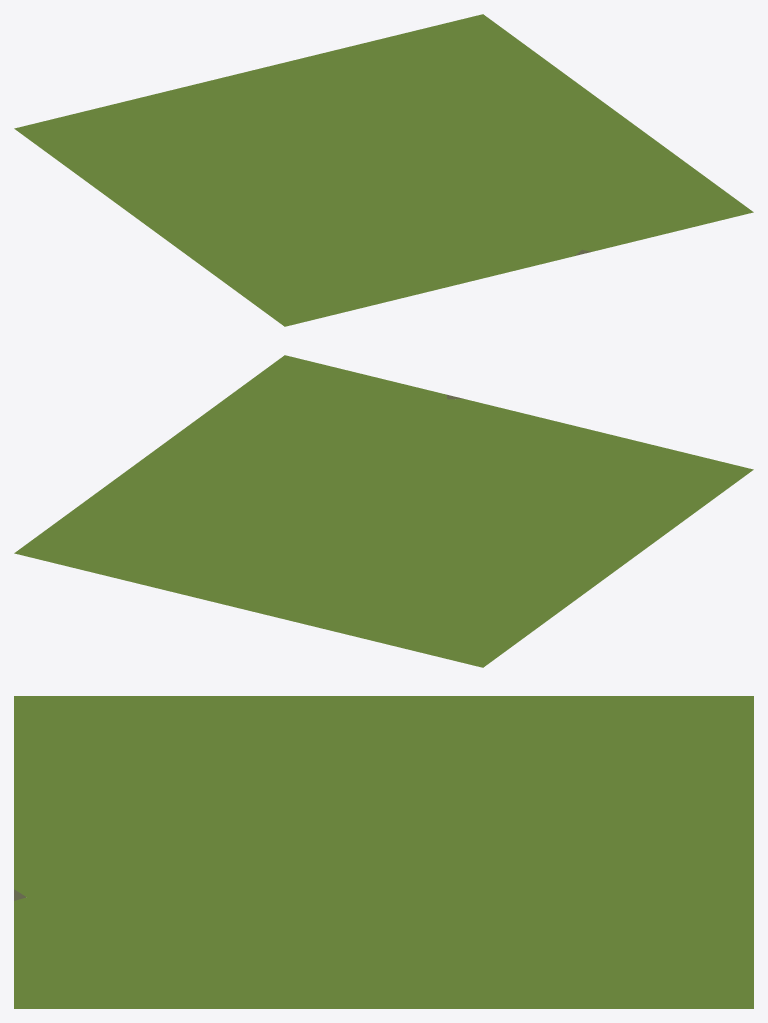
File: cure-15-0.glb
The picture shows the model from 3 angles, top to bottom: view 1: azimuth 30°, elevation 25°; view 2: azimuth 150°, elevation 25°; view 3: azimuth 270°, elevation 25°; orthographic projection. The views are drawn at different scales.
Parts seen in each view (by area): view 1: cure-15-0; view 2: cure-15-0; view 3: cure-15-0.
Boxes of the visible parts, box(x1,y1,x2,y2) form: cure-15-0: box(14, 14, 753, 326); cure-15-0: box(14, 355, 753, 667); cure-15-0: box(14, 696, 753, 1008).
Size of the model in its own units: 100 by 0.003 by 100.
